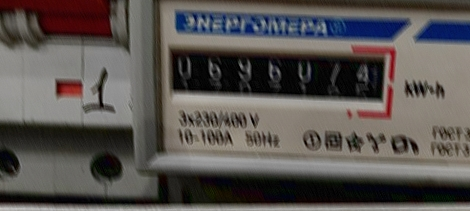0: (172, 52, 192, 77), (294, 56, 311, 82)
4: (352, 59, 369, 81)
5: (352, 84, 368, 100)
6: (265, 55, 283, 81), (204, 54, 222, 79)
7: (323, 58, 342, 84)
9: (234, 54, 251, 81)
screen: (154, 33, 397, 113)
